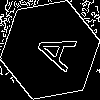A: (25, 25, 78, 73)
